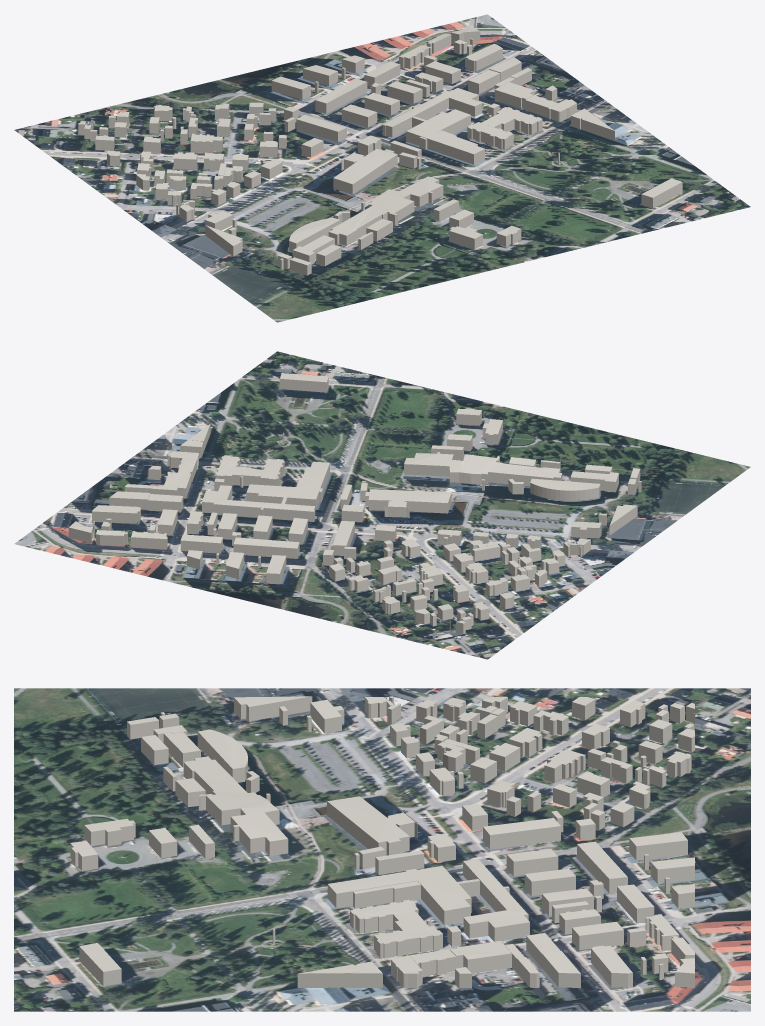
The model's file is kvarter-fokus.glb.
3 views of the same model, one above another, from view 1: azimuth 30°, elevation 25°; view 2: azimuth 150°, elevation 25°; view 3: azimuth 270°, elevation 25° (orthographic). The views are drawn at different scales.
Visible parts, largest first — view 1: Ortofoto_mark, Byggnader_3D; view 2: Ortofoto_mark, Byggnader_3D; view 3: Ortofoto_mark, Byggnader_3D.
Boxes of the visible parts, box(x1,y1,x2,y2) form: Ortofoto_mark: box(14, 14, 750, 322); Byggnader_3D: box(78, 27, 682, 275); Ortofoto_mark: box(14, 351, 750, 659); Byggnader_3D: box(68, 373, 641, 633); Ortofoto_mark: box(14, 688, 750, 1011); Byggnader_3D: box(70, 696, 694, 987).
Bounding box in the file's own units: 478 × 15 × 460.
2 materials, 1 textured.
